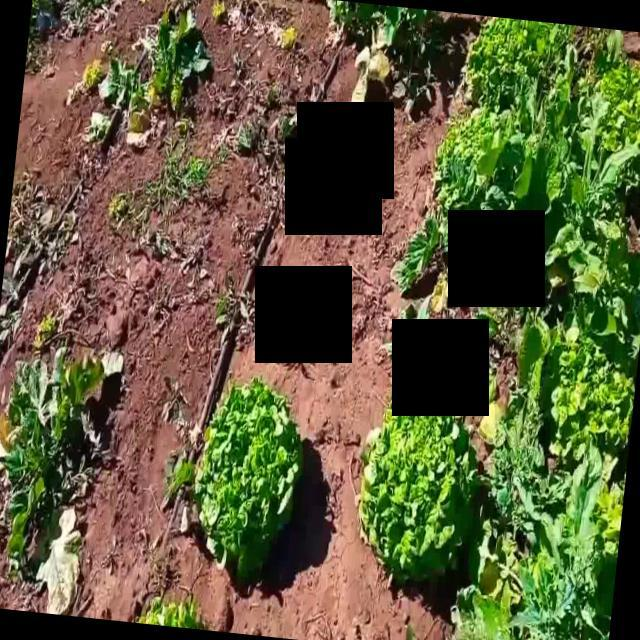Lettuce: (186, 381, 299, 591), (359, 412, 482, 586), (479, 329, 640, 451), (468, 12, 576, 97), (430, 108, 536, 176)
